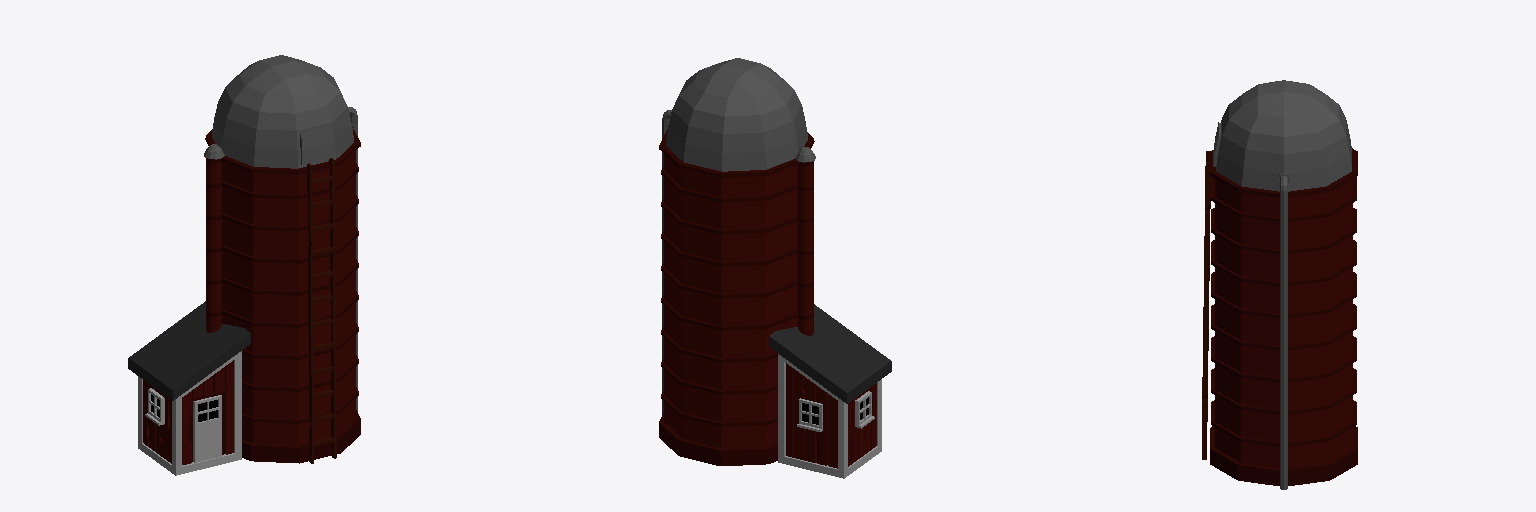
The model's file is Silo_House_Cylinder.obj.
3 renders of one model, left to right at view 1: azimuth 30°, elevation 25°; view 2: azimuth 150°, elevation 25°; view 3: azimuth 270°, elevation 25°, orthographic.
Visible parts, largest first — view 1: Silo_House_Cylinder.003; view 2: Silo_House_Cylinder.003; view 3: Silo_House_Cylinder.003.
Part boxes in pixels (bbox=[...]): Silo_House_Cylinder.003: bbox=[128, 55, 360, 475]; Silo_House_Cylinder.003: bbox=[659, 58, 891, 478]; Silo_House_Cylinder.003: bbox=[1202, 80, 1357, 489].
Bounding box in the file's own units: 5.34 × 9.07 × 3.51.